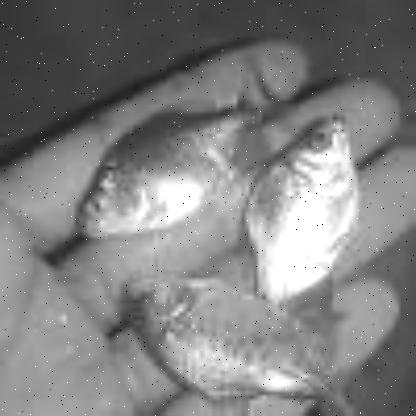ikan-pacu: (133, 266, 341, 404), (78, 96, 248, 240), (254, 104, 364, 300)
